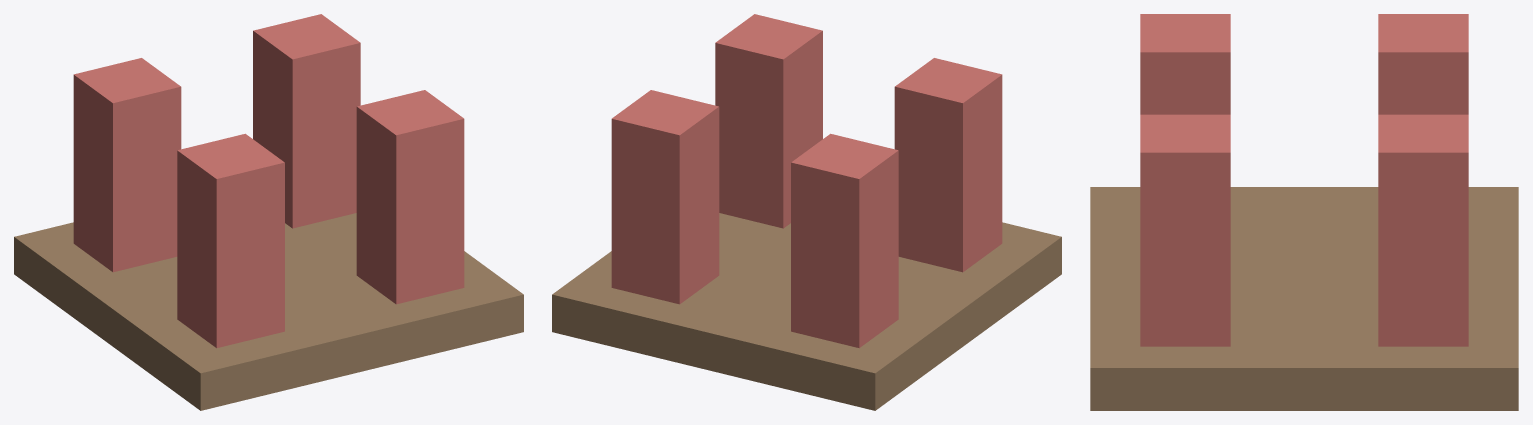
The model's file is Prop_DS_Crop_Bitroot_S3_V1.glb.
3 renders of one model, left to right at view 1: azimuth 30°, elevation 25°; view 2: azimuth 150°, elevation 25°; view 3: azimuth 270°, elevation 25°, orthographic. The views are drawn at different scales.
Parts seen in each view (by area): view 1: Cube, Cube.003, Cube.001, Cube.002, Cube.004; view 2: Cube, Cube.004, Cube.002, Cube.001, Cube.003; view 3: Cube, Cube.003, Cube.004, Cube.001, Cube.002.
Boxes of the visible parts, x1,y1,x2,y2 form: Cube: (14, 213, 523, 410); Cube.003: (356, 90, 464, 304); Cube.001: (177, 133, 284, 348); Cube.002: (73, 58, 181, 272); Cube.004: (253, 14, 360, 228); Cube: (552, 213, 1061, 410); Cube.004: (611, 90, 719, 304); Cube.002: (791, 133, 898, 348); Cube.001: (894, 58, 1002, 272); Cube.003: (715, 14, 822, 228); Cube: (1090, 187, 1518, 410); Cube.003: (1140, 114, 1230, 346); Cube.004: (1378, 114, 1468, 346); Cube.001: (1140, 14, 1230, 114); Cube.002: (1378, 14, 1468, 114).
Size of the model in its own units: 0.9 by 0.55 by 0.9.
